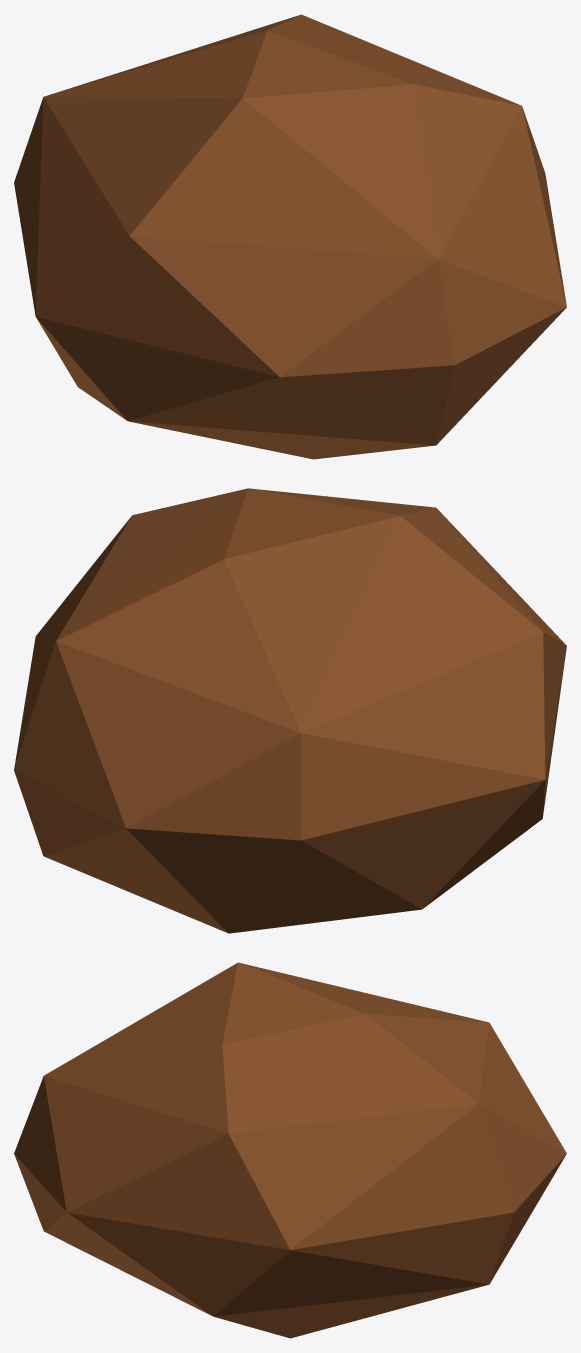
File: lowpolyRock.glb
3 views of the same model, one above another, from view 1: azimuth 30°, elevation 25°; view 2: azimuth 150°, elevation 25°; view 3: azimuth 270°, elevation 25° (orthographic). The views are drawn at different scales.
Visible parts, largest first — view 1: Icosphere; view 2: Icosphere; view 3: Icosphere.
Boxes of the visible parts, x1,y1,x2,y2 form: Icosphere: [14, 14, 566, 459]; Icosphere: [14, 488, 566, 933]; Icosphere: [14, 962, 566, 1338].
Bounding box in the file's own units: 3.01 × 2.06 × 3.36.
